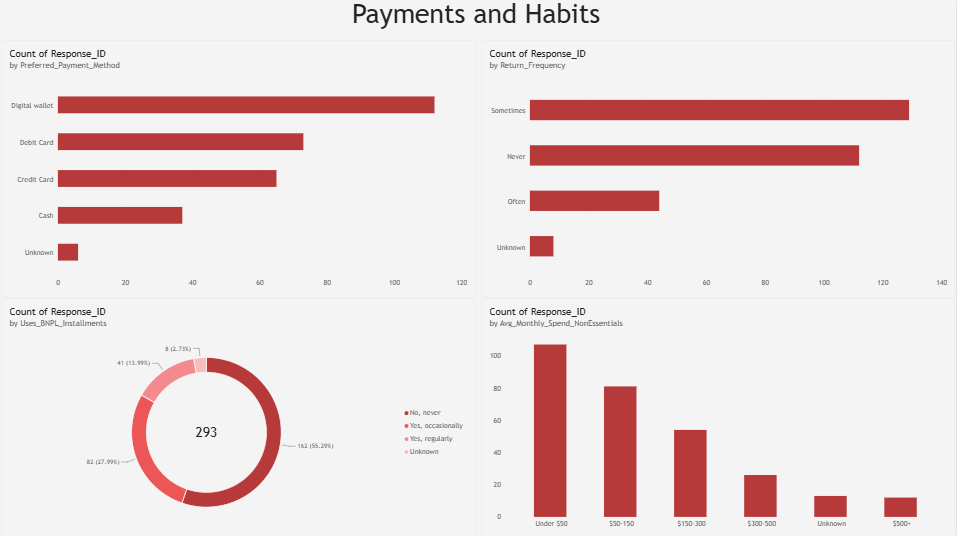

This screenshot's page, from the dashboard's own definition file:
{"tool":"powerbi","page":{"name":"Payments and habits","canvas":[1920,1080],"ordinal":4},"visuals":[{"type":"clusteredBarChart","fields":{"Category":["consumer_shopping_behavior_survey.Preferred_Payment_Method"],"Y":["CountNonNull(consumer_shopping_behavior_survey.Response_ID)"]},"box":[10,86,950,514],"z":0},{"type":"donutChart","fields":{"Category":["consumer_shopping_behavior_survey.Uses_BNPL_Installments"],"Y":["CountNonNull(consumer_shopping_behavior_survey.Response_ID)"]},"box":[10,600,950,480],"z":1},{"type":"clusteredBarChart","fields":{"Category":["consumer_shopping_behavior_survey.Return_Frequency"],"Y":["CountNonNull(consumer_shopping_behavior_survey.Response_ID)"]},"box":[970,86,950,514],"z":2},{"type":"clusteredColumnChart","fields":{"Category":["consumer_shopping_behavior_survey.Avg_Monthly_Spend_NonEssentials"],"Y":["CountNonNull(consumer_shopping_behavior_survey.Response_ID)"]},"box":[970,600,950,480],"z":3},{"type":"textbox","box":[0,0,1920,104],"z":4}]}

Visuals, with their boxes in screenshot pixels (x1, y1, x2, y2), scaled from the page's 1920x1080 canvas onto the 957x536 screenshot:
clusteredBarChart - consumer_shopping_behavior_survey.Preferred_Payment_Method x CountNonNull(consumer_shopping_behavior_survey.Response_ID): (x1=5, y1=43, x2=478, y2=298)
donutChart - consumer_shopping_behavior_survey.Uses_BNPL_Installments x CountNonNull(consumer_shopping_behavior_survey.Response_ID): (x1=5, y1=298, x2=478, y2=535)
clusteredBarChart - consumer_shopping_behavior_survey.Return_Frequency x CountNonNull(consumer_shopping_behavior_survey.Response_ID): (x1=483, y1=43, x2=956, y2=298)
clusteredColumnChart - consumer_shopping_behavior_survey.Avg_Monthly_Spend_NonEssentials x CountNonNull(consumer_shopping_behavior_survey.Response_ID): (x1=483, y1=298, x2=956, y2=535)
textbox: (x1=0, y1=0, x2=956, y2=52)
